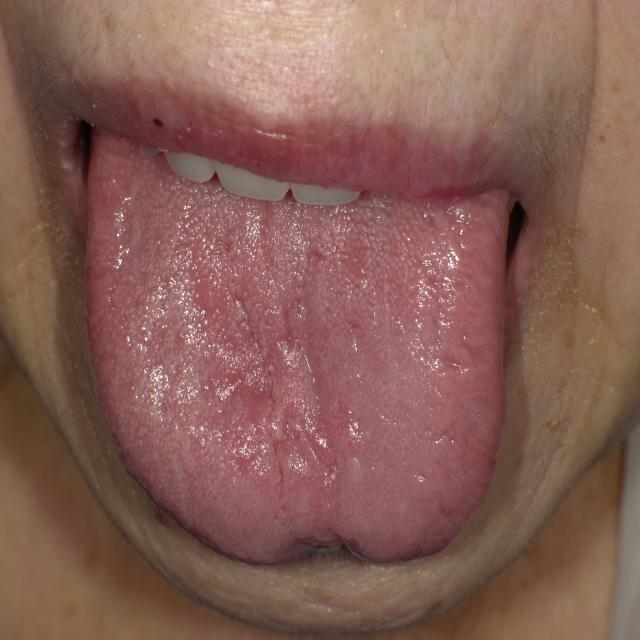baitaishe: (86, 121, 517, 566)
xinfeiao: (255, 505, 384, 566)
